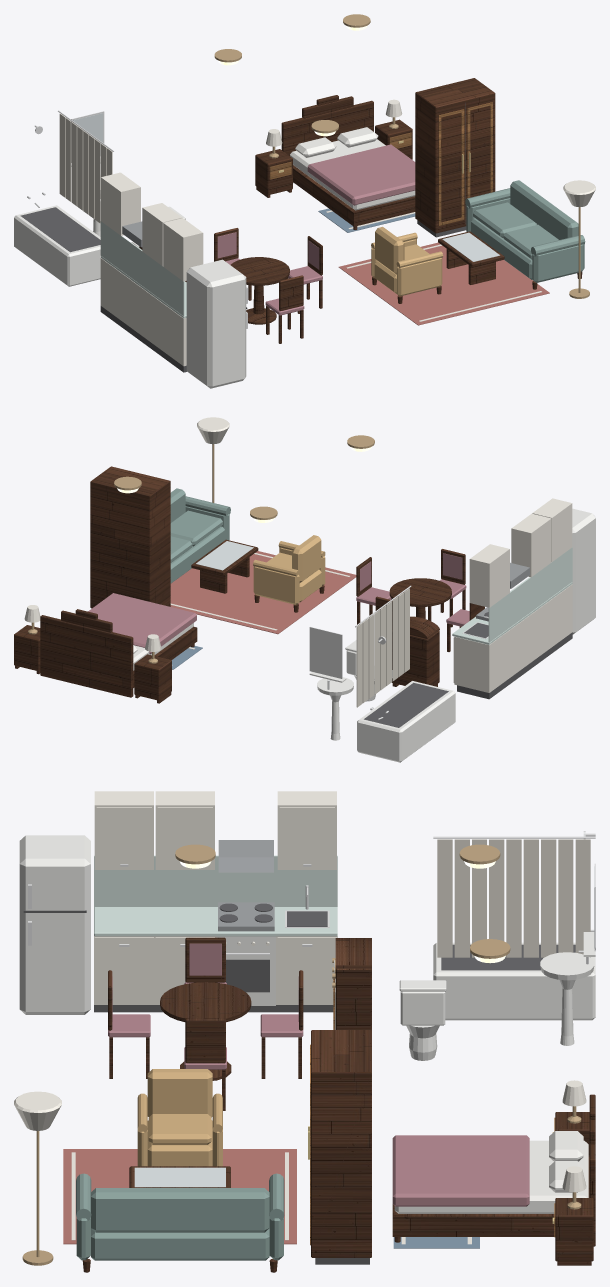
Rendered from apt_front_r.glb.
The picture shows the model from 3 angles, top to bottom: view 1: azimuth 30°, elevation 25°; view 2: azimuth 150°, elevation 25°; view 3: azimuth 270°, elevation 25°; orthographic projection. The views are drawn at different scales.
Parts seen in each view (by area): view 1: apt_front_r_dkwood, apt_front_r_cream, apt_front_r_fabric, apt_front_r_appliance, apt_front_r_rug, apt_front_r_fabric3, apt_front_r_cloth, apt_front_r_fabric2, apt_front_r_porcelain, apt_front_r_tile_k, apt_front_r_dark, apt_front_r_linen (+4 smaller); view 2: apt_front_r_dkwood, apt_front_r_cream, apt_front_r_rug, apt_front_r_porcelain, apt_front_r_fabric3, apt_front_r_cloth, apt_front_r_fabric, apt_front_r_fabric2, apt_front_r_tile_k, apt_front_r_dark, apt_front_r_appliance, apt_front_r_chrome (+3 smaller); view 3: apt_front_r_dkwood, apt_front_r_cream, apt_front_r_fabric, apt_front_r_cloth, apt_front_r_appliance, apt_front_r_tile_k, apt_front_r_fabric3, apt_front_r_porcelain, apt_front_r_fabric2, apt_front_r_rug, apt_front_r_dark, apt_front_r_linen (+5 smaller).
Boxes of the visible parts, x1,y1,x2,y2 form: apt_front_r_dkwood: (139, 78, 582, 343); apt_front_r_cream: (100, 99, 595, 366); apt_front_r_fabric: (465, 180, 585, 282); apt_front_r_appliance: (186, 259, 246, 388); apt_front_r_rug: (338, 242, 549, 325); apt_front_r_fabric3: (217, 144, 415, 315); apt_front_r_cloth: (59, 113, 112, 223); apt_front_r_fabric2: (371, 226, 443, 296); apt_front_r_porcelain: (14, 158, 185, 286); apt_front_r_tile_k: (100, 221, 186, 318); apt_front_r_dark: (20, 103, 466, 372); apt_front_r_linen: (290, 127, 415, 210); apt_front_r_dkwood: (14, 466, 484, 703); apt_front_r_cream: (24, 417, 572, 692); apt_front_r_rug: (170, 551, 356, 634); apt_front_r_porcelain: (309, 640, 455, 762); apt_front_r_fabric3: (88, 553, 469, 654); apt_front_r_cloth: (356, 588, 409, 707); apt_front_r_fabric: (170, 488, 230, 583); apt_front_r_fabric2: (253, 535, 325, 604); apt_front_r_tile_k: (452, 547, 572, 644); apt_front_r_dark: (364, 612, 572, 727); apt_front_r_appliance: (572, 508, 595, 634); apt_front_r_chrome: (309, 585, 488, 719); apt_front_r_dkwood: (82, 937, 595, 1272); apt_front_r_cream: (14, 791, 586, 1244); apt_front_r_fabric: (76, 1173, 284, 1260); apt_front_r_cloth: (335, 839, 590, 1029); apt_front_r_appliance: (19, 835, 275, 1014); apt_front_r_tile_k: (94, 855, 337, 936); apt_front_r_fabric3: (108, 943, 529, 1206); apt_front_r_porcelain: (399, 932, 595, 1060); apt_front_r_fabric2: (137, 1069, 222, 1166); apt_front_r_rug: (63, 1149, 296, 1244); apt_front_r_dark: (23, 903, 575, 1264); apt_front_r_linen: (394, 1131, 588, 1213).
Bounding box in the file's own units: 6.62 × 2.85 × 5.73.
Materials: 20 (2 with a texture image).
